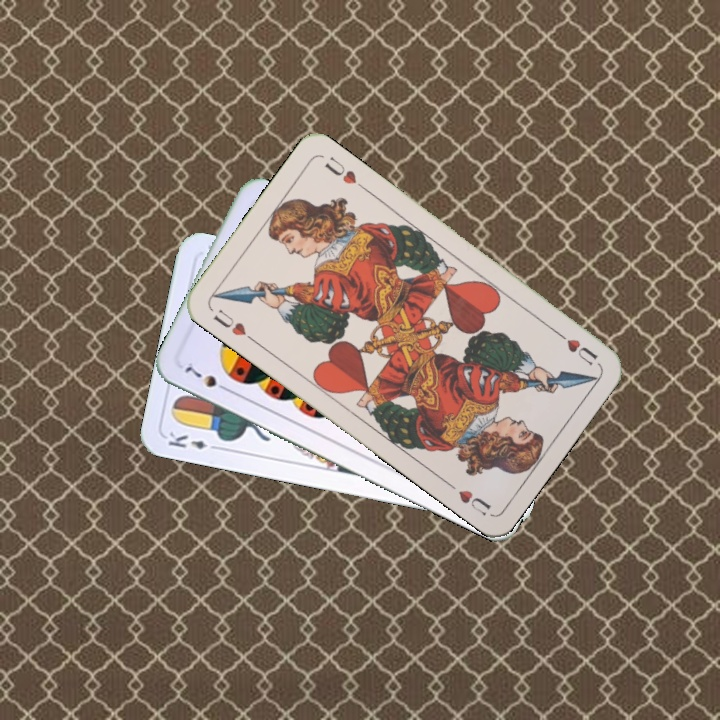EK: (164, 427, 223, 453)
HU: (551, 326, 601, 368), (209, 305, 258, 345)
S7: (180, 358, 233, 395)
